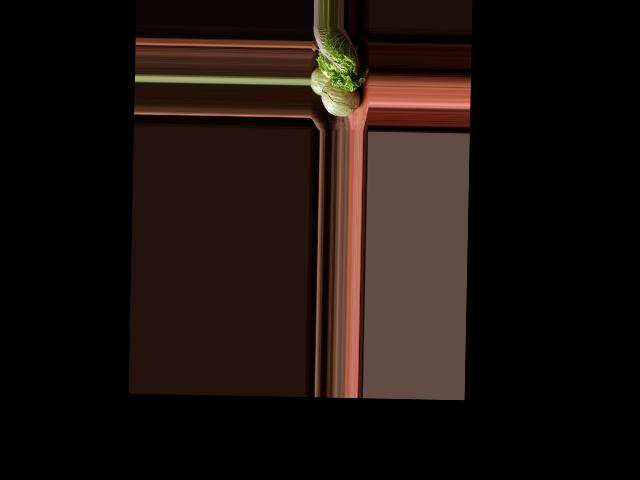lettuce: (314, 27, 370, 91)
